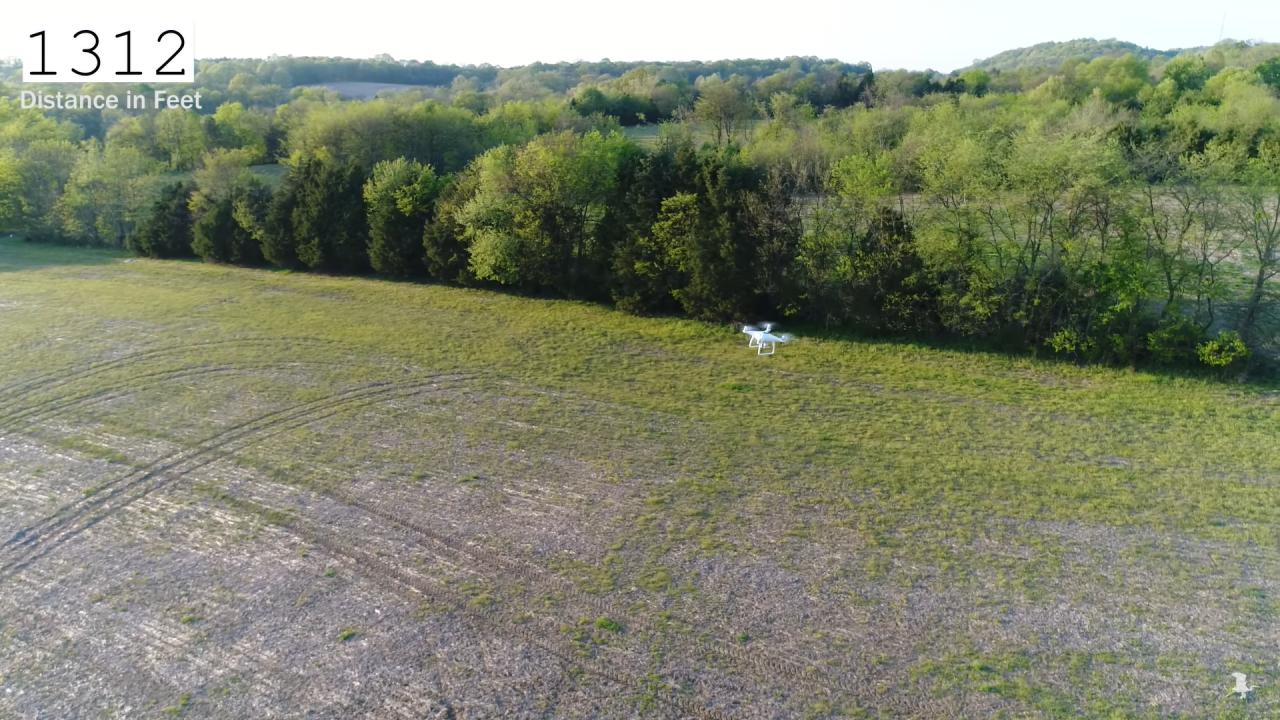Drone: (728, 314, 806, 363)
